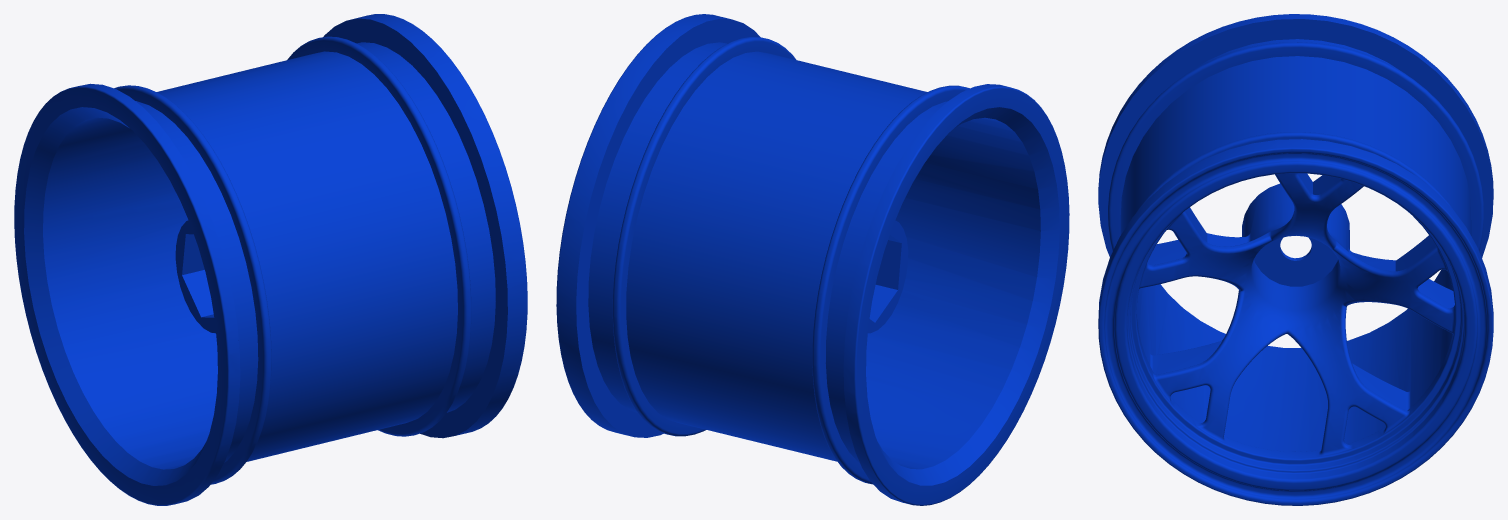
File: Plastic_Wheel_130mm__Plastic_Rim_2.dae
3 renders of one model, left to right at view 1: azimuth 30°, elevation 25°; view 2: azimuth 150°, elevation 25°; view 3: azimuth 270°, elevation 25°, orthographic. The views are drawn at different scales.
Parts seen in each view (by area): view 1: node0; view 2: node0; view 3: node0.
Boxes of the visible parts, box(x1,y1,x2,y2) form: node0: box(14, 14, 527, 505); node0: box(556, 14, 1069, 505); node0: box(1098, 14, 1493, 505).
Size of the model in its own units: 0.05 by 0.062 by 0.062.
